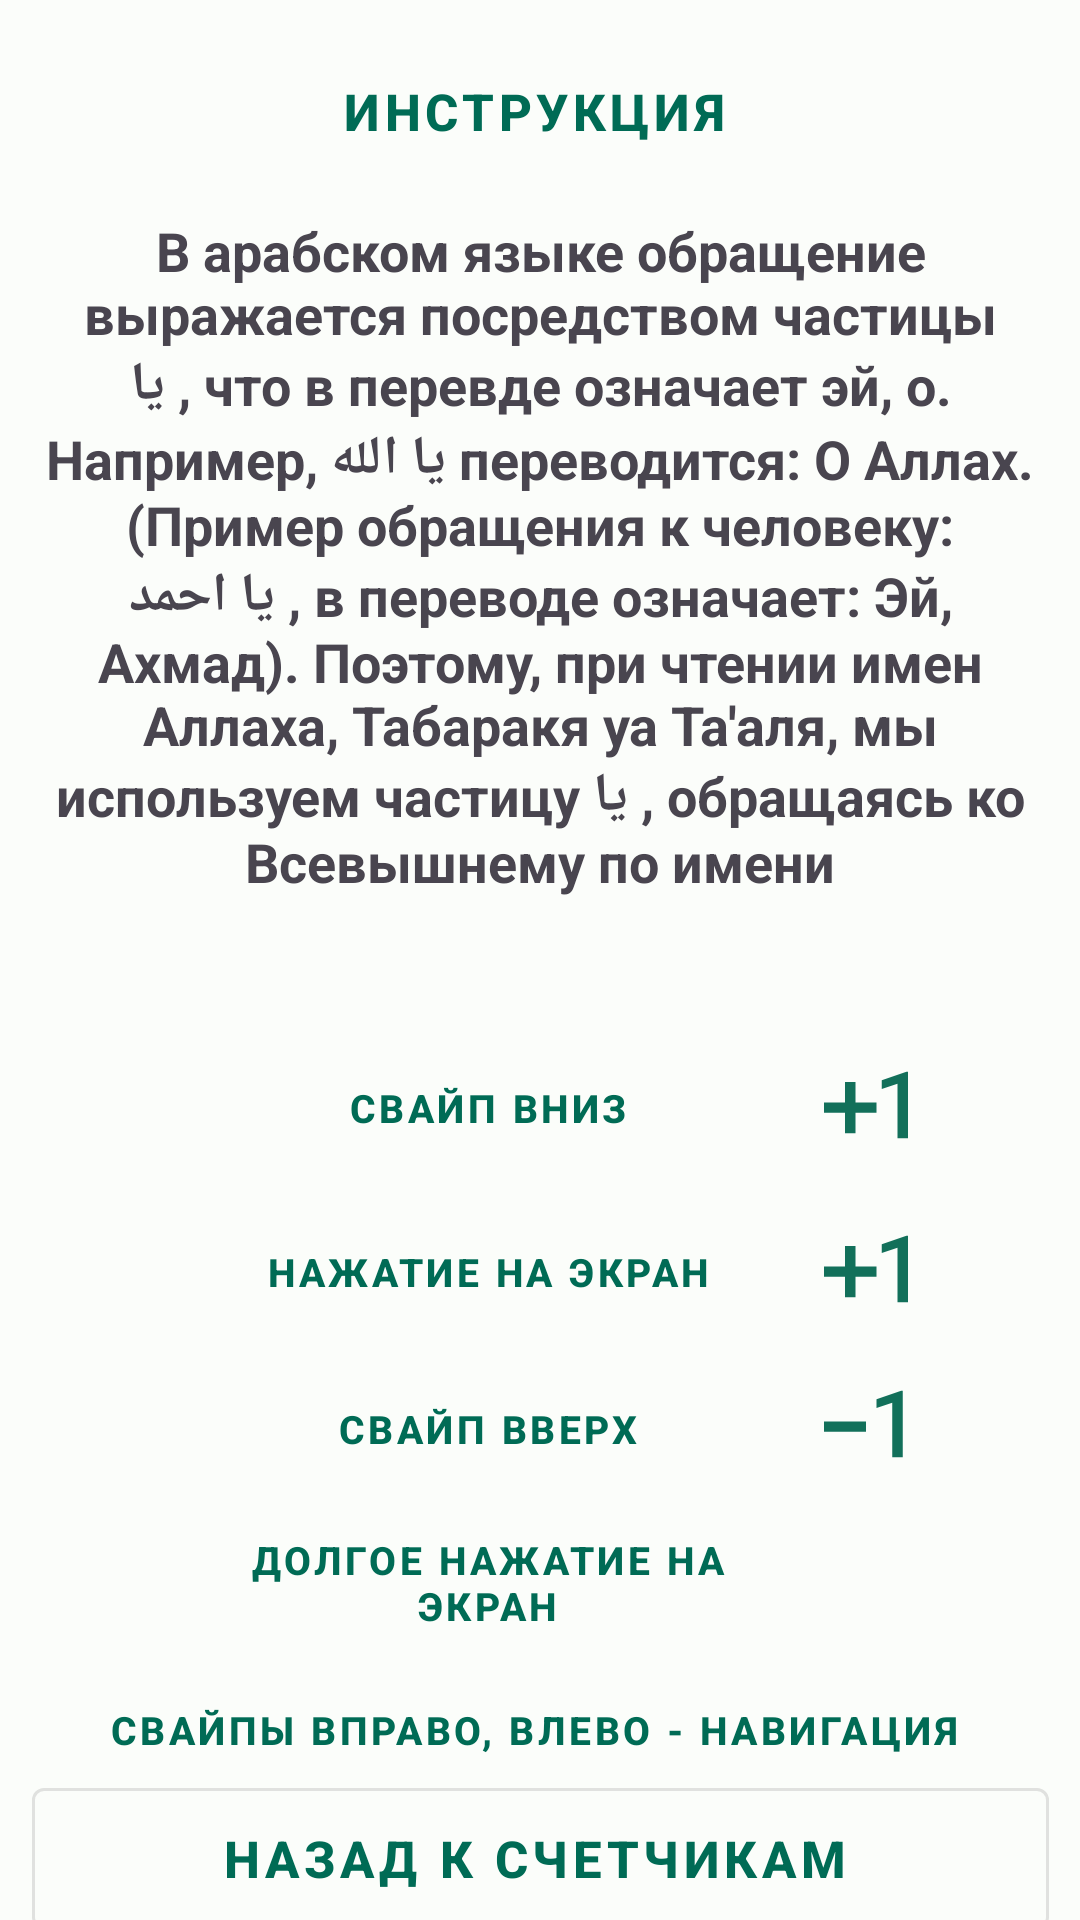

Icons on this 1080px×1920px Android screen, each with its box as (x1, y1, x2, y2):
exposure neg: (824, 1390, 903, 1458)
exposure plus: (824, 1071, 908, 1139), (824, 1235, 908, 1303)
